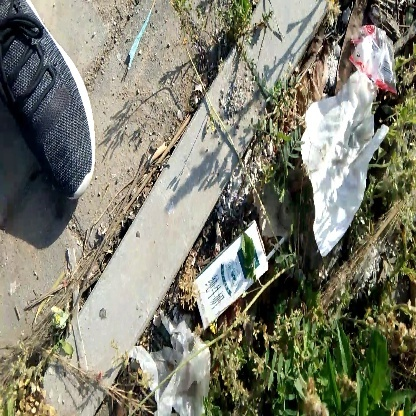milk-box: (191, 219, 271, 335)
